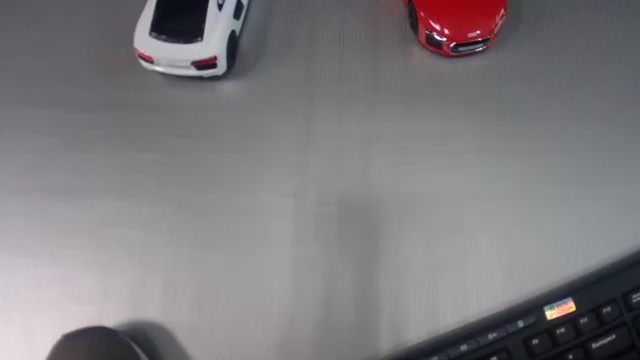car: (132, 1, 253, 77), (407, 1, 510, 55)
